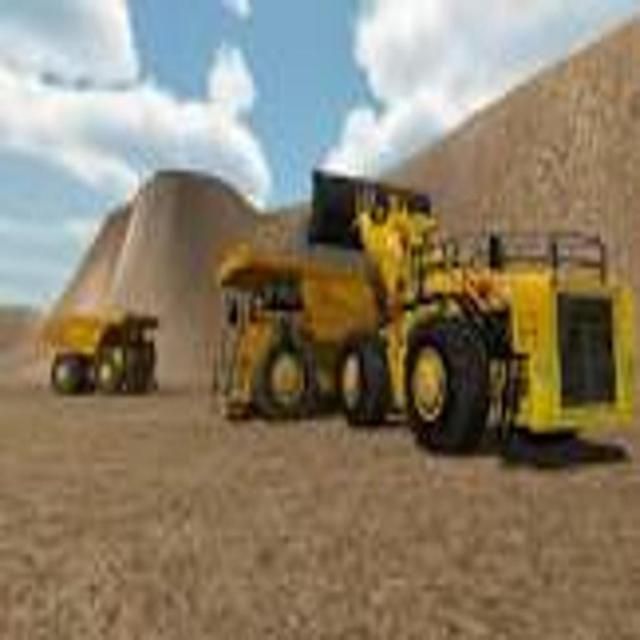dump_truck: (212, 240, 382, 424), (43, 281, 168, 416)
